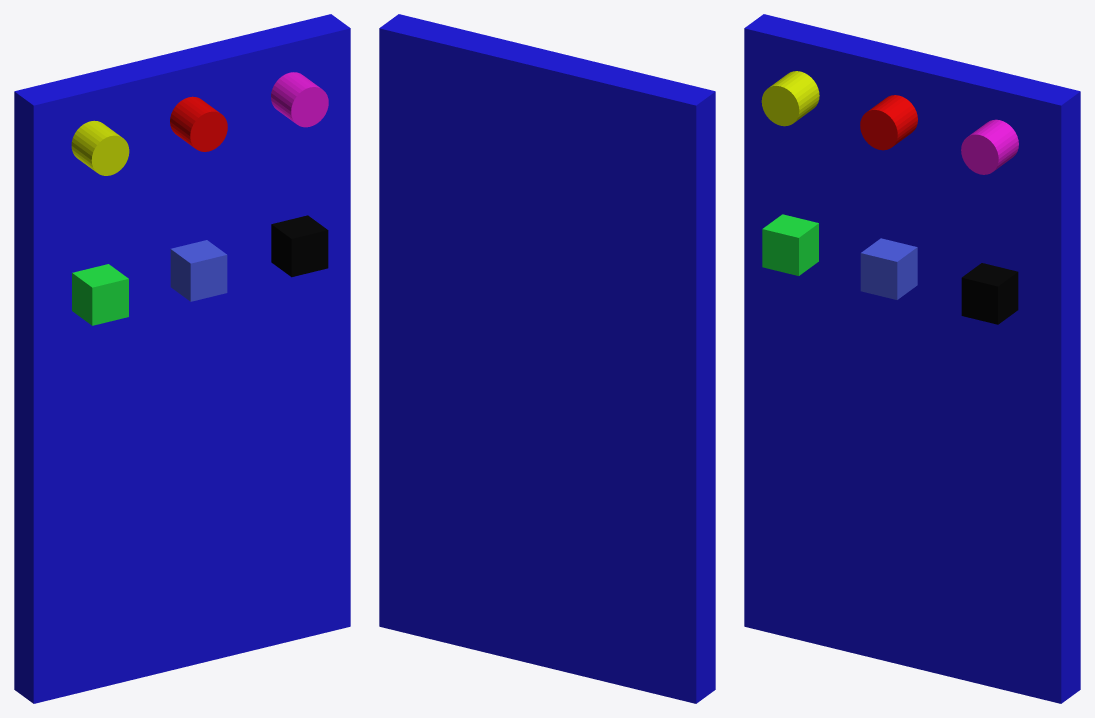
Rendered from pipkaDraco.gltf.
3 views of the same model, side by side, from view 1: azimuth 30°, elevation 25°; view 2: azimuth 150°, elevation 25°; view 3: azimuth 330°, elevation 25° (orthographic).
Parts seen in each view (by area): view 1: polotno, glazok_b3, glazok_b2, glazok_b1, gem_c3, gem_c1, gem_c2; view 2: polotno; view 3: polotno, glazok_b2, glazok_b3, glazok_b1, gem_c1, gem_c2, gem_c3.
Part boxes in pixels (left/top/right/bottom): polotno: left=14, top=14, right=350, bottom=703; glazok_b3: left=271, top=215, right=328, bottom=277; glazok_b2: left=170, top=240, right=227, bottom=301; glazok_b1: left=72, top=264, right=128, bottom=325; gem_c3: left=271, top=72, right=328, bottom=127; gem_c1: left=71, top=120, right=129, bottom=175; gem_c2: left=170, top=96, right=227, bottom=151; polotno: left=379, top=14, right=715, bottom=703; polotno: left=744, top=14, right=1080, bottom=703; glazok_b2: left=860, top=238, right=917, bottom=299; glazok_b3: left=961, top=263, right=1018, bottom=324; glazok_b1: left=762, top=214, right=818, bottom=275; gem_c1: left=761, top=71, right=819, bottom=126; gem_c2: left=860, top=95, right=917, bottom=150; gem_c3: left=961, top=119, right=1018, bottom=174.
Bounding box in the file's own units: 24.29 × 43.82 × 5.29.
